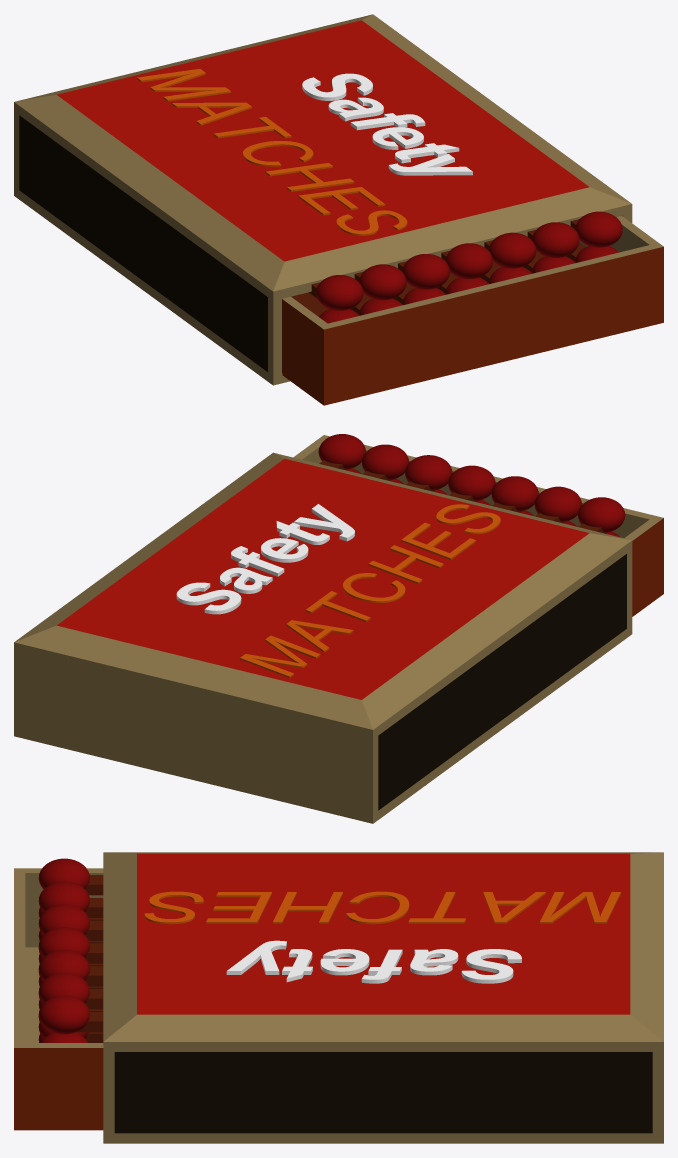
File: SM_Matches.fbx
3 renders of one model, top to bottom at view 1: azimuth 30°, elevation 25°; view 2: azimuth 150°, elevation 25°; view 3: azimuth 270°, elevation 25°, orthographic. The views are drawn at different scales.
Visible parts, largest first — view 1: Box001, Box002, Text002, Text001, Sphere015, Sphere016, Sphere021, Sphere019, Sphere017, Sphere020, Sphere018; view 2: Box001, Text002, Text001, Box002, Sphere015, Sphere018, Sphere017, Sphere019, Sphere016, Sphere020, Sphere021; view 3: Box001, Box002, Text002, Text001, Sphere021, Sphere016, Sphere017, Sphere018, Sphere015, Sphere020, Sphere019.
Boxes of the visible parts, x1=… form: Box001: x1=14, y1=14, x2=632, y2=385; Box002: x1=282, y1=216, x2=663, y2=405; Text002: x1=137, y1=69, x2=407, y2=235; Text001: x1=302, y1=73, x2=472, y2=175; Sphere015: x1=316, y1=275, x2=363, y2=310; Sphere016: x1=359, y1=264, x2=406, y2=300; Sphere021: x1=575, y1=211, x2=622, y2=247; Sphere019: x1=489, y1=232, x2=536, y2=268; Sphere017: x1=402, y1=254, x2=449, y2=289; Sphere020: x1=532, y1=222, x2=579, y2=257; Sphere018: x1=445, y1=243, x2=492, y2=278; Box001: x1=14, y1=452, x2=632, y2=823; Text002: x1=240, y1=504, x2=500, y2=678; Text001: x1=176, y1=504, x2=354, y2=614; Box002: x1=293, y1=435, x2=663, y2=616; Sphere015: x1=578, y1=497, x2=625, y2=532; Sphere018: x1=448, y1=465, x2=495, y2=500; Sphere017: x1=491, y1=476, x2=538, y2=511; Sphere019: x1=405, y1=455, x2=452, y2=490; Sphere016: x1=534, y1=486, x2=581, y2=521; Sphere020: x1=362, y1=444, x2=409, y2=479; Sphere021: x1=318, y1=434, x2=365, y2=469; Box001: x1=103, y1=852, x2=663, y2=1143; Box002: x1=14, y1=868, x2=103, y2=1130; Text002: x1=144, y1=891, x2=620, y2=924; Text001: x1=226, y1=940, x2=521, y2=983; Sphere021: x1=38, y1=995, x2=89, y2=1034; Sphere016: x1=38, y1=881, x2=89, y2=911; Sphere017: x1=38, y1=904, x2=89, y2=934; Sphere018: x1=38, y1=927, x2=89, y2=957; Sphere015: x1=38, y1=858, x2=89, y2=889; Sphere020: x1=38, y1=972, x2=89, y2=1003; Sphere019: x1=38, y1=949, x2=89, y2=980.
Size of the model in its own units: 4 by 5.8 by 1.17.
